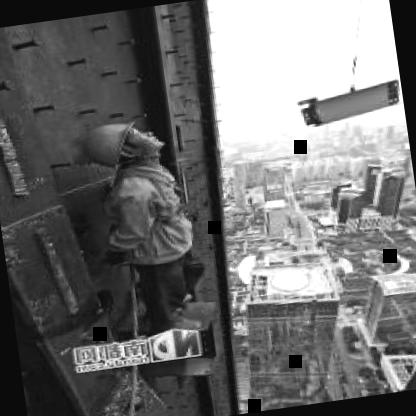helmet: (78, 114, 168, 174)
